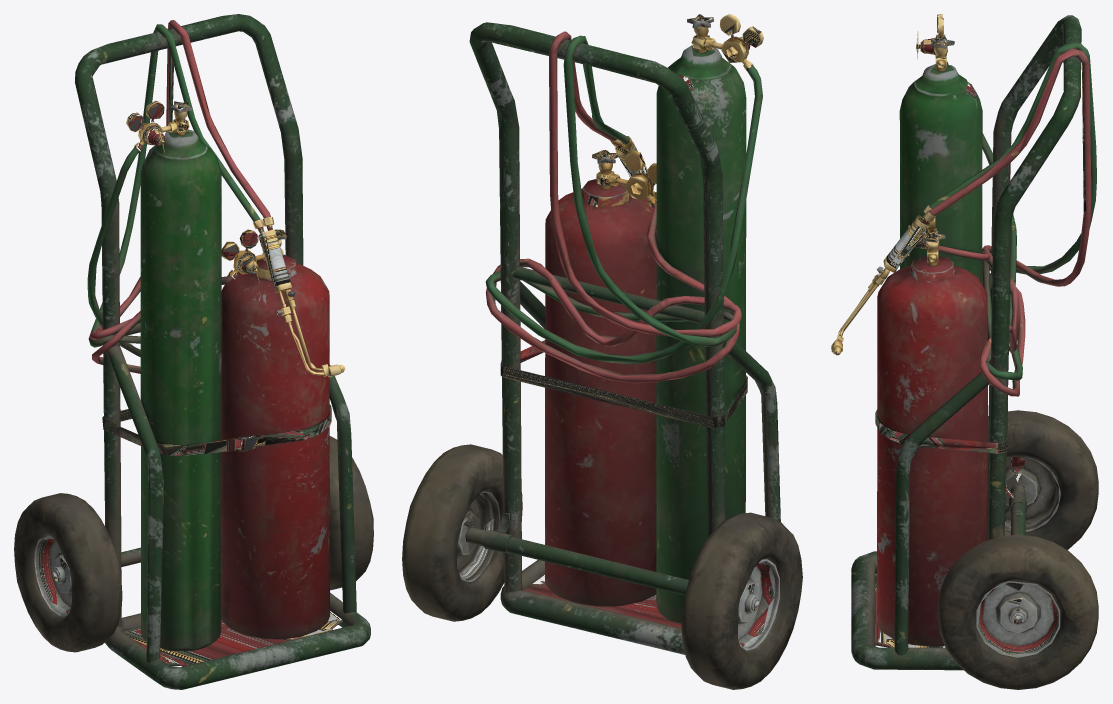
Rendered from portable_welding_cart.glb.
3 views of the same model, side by side, from view 1: azimuth 30°, elevation 25°; view 2: azimuth 150°, elevation 25°; view 3: azimuth 270°, elevation 25° (orthographic). The views are drawn at different scales.
Parts seen in each view (by area): view 1: portable_welding_cart; view 2: portable_welding_cart; view 3: portable_welding_cart.
Boxes of the visible parts, x1,y1,x2,y2 form: portable_welding_cart: (14, 14, 373, 689); portable_welding_cart: (402, 14, 802, 689); portable_welding_cart: (831, 14, 1098, 689).
Bounding box in the file's own units: 0.8365 × 1.56 × 0.655.
2 materials, 2 textured.
